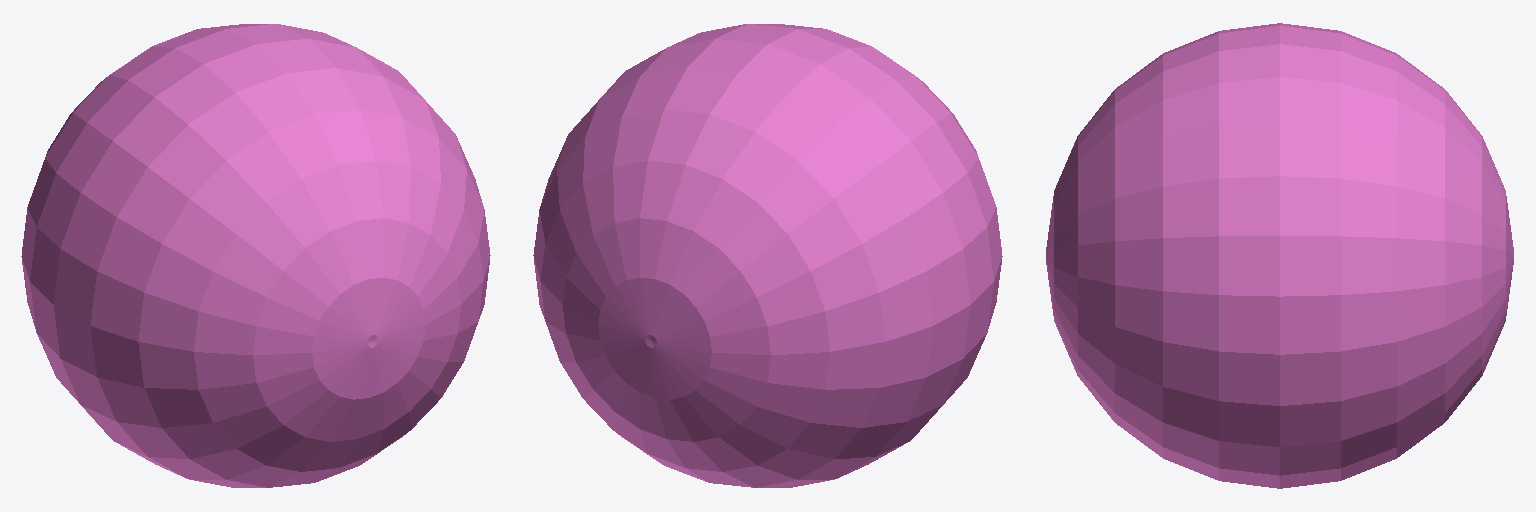
Rendered from gems_opal_original.obj.
The picture shows the model from 3 angles: view 1: azimuth 30°, elevation 25°; view 2: azimuth 150°, elevation 25°; view 3: azimuth 270°, elevation 25°; orthographic projection.
Parts seen in each view (by area): view 1: mergedBlocks; view 2: mergedBlocks; view 3: mergedBlocks.
Part boxes in pixels (left/top/right/bottom): mergedBlocks: left=21, top=24, right=490, bottom=487; mergedBlocks: left=533, top=24, right=1002, bottom=487; mergedBlocks: left=1046, top=23, right=1513, bottom=488.
Bounding box in the file's own units: 1 × 1 × 1.